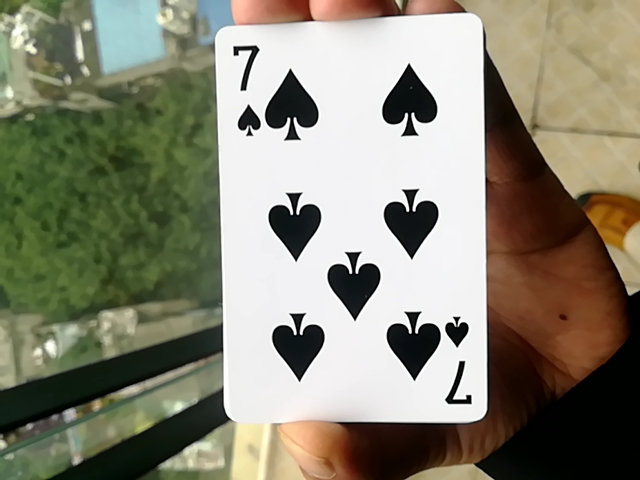ht 7: (221, 1, 479, 432)
